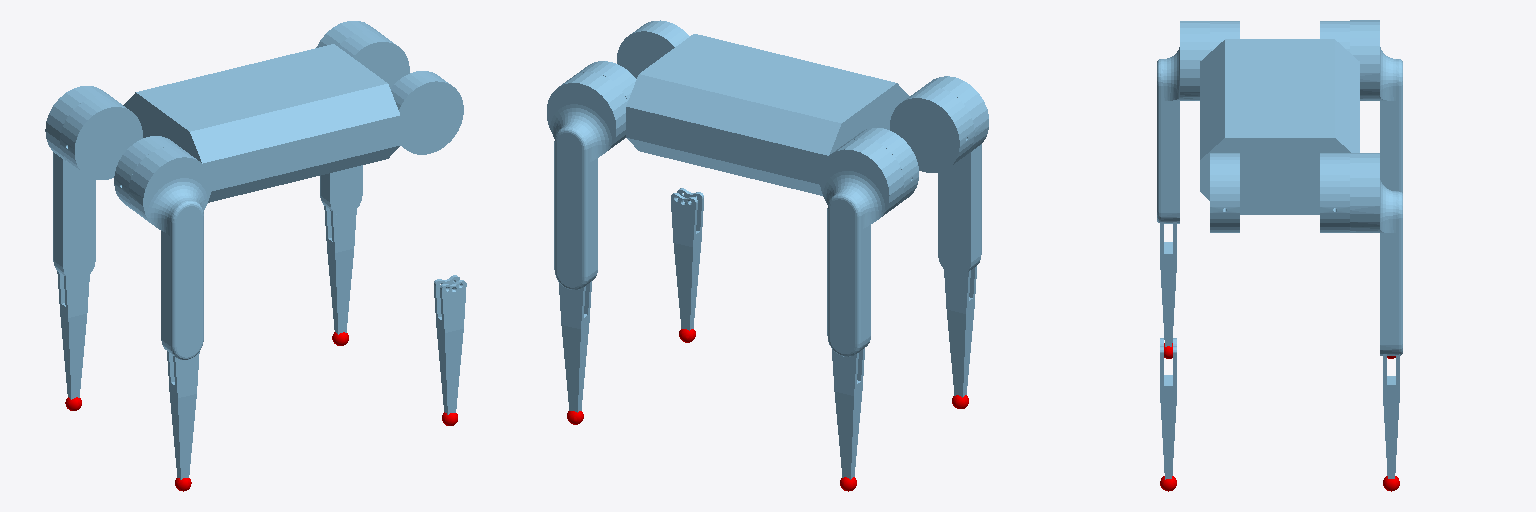
robot.urdf — astro_description:
<?xml version="1.0" encoding="utf-8"?>
<!-- This URDF was automatically created by SolidWorks to URDF Exporter! Originally created by [author] ([email redacted]) 
     Commit Version: 1.5.1-0-g916b5db  Build Version: 1.5.7152.31018
     For more information, please see http://wiki.ros.org/sw_urdf_exporter -->
<robot
  name="astro_description">
  <link
    name="base_link">
    <inertial>
      <origin
        xyz="8.31153464457157E-18 6.50618032034739E-18 5.0603624713813E-18"
        rpy="0 0 0" />
      <mass
        value="4.68680310101314" />
      <inertia
        ixx="0.0154717864738765"
        ixy="-1.44964753828898E-18"
        ixz="1.09665913846752E-18"
        iyy="0.0330737703955579"
        iyz="8.32585455221295E-20"
        izz="0.0414712634973384" />
    </inertial>
    <visual>
      <origin
        xyz="0 0 0"
        rpy="0 0 0" />
      <geometry>
        <mesh
          filename="package://astro_description/meshes/base_link.STL" />
      </geometry>
      <material
        name="">
        <color
          rgba="0.615686274509804 0.811764705882353 0.929411764705882 1" />
      </material>
    </visual>
    <collision>
      <origin
        xyz="0 0 0"
        rpy="0 0 0" />
      <geometry>
        <mesh
          filename="package://astro_description/meshes/base_link.STL" />
      </geometry>
    </collision>
  </link>
  <link
    name="hip_0">
    <inertial>
      <origin
        xyz="0 -1.38777878078145E-17 1.25816239120847E-20"
        rpy="0 0 0" />
      <mass
        value="0.246223359229195" />
      <inertia
        ixx="0.000165256724841001"
        ixy="-9.05104722009984E-15"
        ixz="-1.66129314216246E-14"
        iyy="0.000278470026411962"
        iyz="-1.73436802029533E-14"
        izz="0.000163858703021357" />
    </inertial>
    <visual>
      <origin
        xyz="0 0 0"
        rpy="0 0 0" />
      <geometry>
        <mesh
          filename="package://astro_description/meshes/hip_0.STL" />
      </geometry>
      <material
        name="">
        <color
          rgba="0.615686274509804 0.811764705882353 0.929411764705882 1" />
      </material>
    </visual>
    <collision>
      <origin
        xyz="0 0 0"
        rpy="0 0 0" />
      <geometry>
        <mesh
          filename="package://astro_description/meshes/hip_0.STL" />
      </geometry>
    </collision>
  </link>
  <joint
    name="hip_0"
    type="revolute">
    <origin
      xyz="0.185 0.065 0"
      rpy="0 0 0" />
    <parent
      link="base_link" />
    <child
      link="hip_0" />
    <axis
      xyz="-1 0 0" />
    <limit
      lower="-3.14"
      upper="3.14"
      effort="10"
      velocity="10" />
  </joint>
  <link
    name="shoulder_0">
    <inertial>
      <origin
        xyz="4.06795680474303E-10 0.0158652706913515 -0.0518927213529733"
        rpy="0 0 0" />
      <mass
        value="0.508100774960777" />
      <inertia
        ixx="0.00253510428613682"
        ixy="-1.80683476493991E-11"
        ixz="-2.00076175747246E-11"
        iyy="0.00255511245596087"
        iyz="0.000407766188388369"
        izz="0.000348890325766077" />
    </inertial>
    <visual>
      <origin
        xyz="0 0 0"
        rpy="0 0 0" />
      <geometry>
        <mesh
          filename="package://astro_description/meshes/shoulder_0.STL" />
      </geometry>
      <material
        name="">
        <color
          rgba="0.615686274509804 0.811764705882353 0.929411764705882 1" />
      </material>
    </visual>
    <collision>
      <origin
        xyz="0 0 0"
        rpy="0 0 0" />
      <geometry>
        <mesh
          filename="package://astro_description/meshes/shoulder_0.STL" />
      </geometry>
    </collision>
  </link>
  <joint
    name="shoulder_0"
    type="revolute">
    <origin
      xyz="0 0.0349999999353767 0"
      rpy="0 0 0" />
    <parent
      link="hip_0" />
    <child
      link="shoulder_0" />
    <axis
      xyz="0 1 0" />
    <limit
      lower="-3.14"
      upper="3.14"
      effort="10"
      velocity="10" />
  </joint>
  <link
    name="knee_0">
    <inertial>
      <origin
        xyz="2.3577252546203E-05 -2.77555756156289E-17 -0.0854767786481249"
        rpy="0 0 0" />
      <mass
        value="0.0550655915530228" />
      <inertia
        ixx="0.000108166100210968"
        ixy="9.08465366075516E-22"
        ixz="-3.77066822641529E-08"
        iyy="0.000109318668697255"
        iyz="1.43882130258396E-20"
        izz="4.74934642586929E-06" />
    </inertial>
    <visual>
      <origin
        xyz="0 0 0"
        rpy="0 0 0" />
      <geometry>
        <mesh
          filename="package://astro_description/meshes/knee_0.STL" />
      </geometry>
      <material
        name="">
        <color
          rgba="0.615686274509804 0.811764705882353 0.929411764705882 1" />
      </material>
    </visual>
    <collision>
      <origin
        xyz="0 0 0"
        rpy="0 0 0" />
      <geometry>
        <mesh
          filename="package://astro_description/meshes/knee_0.STL" />
      </geometry>
    </collision>
  </link>
  <joint
    name="knee_0"
    type="revolute">
    <origin
      xyz="0 0.0314999999999999 -0.1875"
      rpy="0 0 0" />
    <parent
      link="shoulder_0" />
    <child
      link="knee_0" />
    <axis
      xyz="0 -1 0" />
    <limit
      lower="-3.14"
      upper="3.14"
      effort="10"
      velocity="10" />
  </joint>
  <link
    name="toe_0">
    <inertial>
      <origin
        xyz="2.95606317202157E-11 9.95770133016549E-12 -0.00105178196616629"
        rpy="0 0 0" />
      <mass
        value="0.00341340894922415" />
      <inertia
        ixx="1.37512731322582E-07"
        ixy="3.15030137833387E-16"
        ixz="-8.62139511434755E-16"
        iyy="1.34732164237532E-07"
        iyz="-2.80019540660074E-16"
        izz="1.56709984508881E-07" />
    </inertial>
    <visual>
      <origin
        xyz="0 0 0"
        rpy="0 0 0" />
      <geometry>
        <mesh
          filename="package://astro_description/meshes/toe_0.STL" />
      </geometry>
      <material
        name="">
        <color
          rgba="1 0 0 1" />
      </material>
    </visual>
    <collision>
      <origin
        xyz="0 0 0"
        rpy="0 0 0" />
      <geometry>
        <mesh
          filename="package://astro_description/meshes/toe_0.STL" />
      </geometry>
    </collision>
  </link>
  <joint
    name="toe_0"
    type="fixed">
    <origin
      xyz="0 0 -0.19"
      rpy="0 0 0" />
    <parent
      link="knee_0" />
    <child
      link="toe_0" />
    <axis
      xyz="0 0 0" />
    <limit
      lower="-3.14"
      upper="3.14"
      effort="0"
      velocity="0" />
  </joint>
  <link
    name="hip_1">
    <inertial>
      <origin
        xyz="2.77555756156289E-17 1.38777878078145E-17 3.30036792602533E-20"
        rpy="0 0 0" />
      <mass
        value="0.246223359229195" />
      <inertia
        ixx="0.000165256724841001"
        ixy="9.05105986575477E-15"
        ixz="1.66129315864524E-14"
        iyy="0.000278470026411962"
        iyz="-1.73437001365424E-14"
        izz="0.000163858703021357" />
    </inertial>
    <visual>
      <origin
        xyz="0 0 0"
        rpy="0 0 0" />
      <geometry>
        <mesh
          filename="package://astro_description/meshes/hip_1.STL" />
      </geometry>
      <material
        name="">
        <color
          rgba="0.615686274509804 0.811764705882353 0.929411764705882 1" />
      </material>
    </visual>
    <collision>
      <origin
        xyz="0 0 0"
        rpy="0 0 0" />
      <geometry>
        <mesh
          filename="package://astro_description/meshes/hip_1.STL" />
      </geometry>
    </collision>
  </link>
  <joint
    name="hip_1"
    type="revolute">
    <origin
      xyz="0.185 -0.065 0"
      rpy="0 0 0" />
    <parent
      link="base_link" />
    <child
      link="hip_1" />
    <axis
      xyz="0 1 0" />
    <limit
      lower="-3.14"
      upper="3.14"
      effort="10"
      velocity="10" />
  </joint>
  <link
    name="shoulder_1">
    <inertial>
      <origin
        xyz="-4.06795652718728E-10 -0.0158652706913514 -0.0518927213529733"
        rpy="0 0 0" />
      <mass
        value="0.508100774960777" />
      <inertia
        ixx="0.00253510428613682"
        ixy="-1.80683477464773E-11"
        ixz="2.00076171968531E-11"
        iyy="0.00255511245596086"
        iyz="-0.000407766188388369"
        izz="0.000348890325766076" />
    </inertial>
    <visual>
      <origin
        xyz="0 0 0"
        rpy="0 0 0" />
      <geometry>
        <mesh
          filename="package://astro_description/meshes/shoulder_1.STL" />
      </geometry>
      <material
        name="">
        <color
          rgba="0.615686274509804 0.811764705882353 0.929411764705882 1" />
      </material>
    </visual>
    <collision>
      <origin
        xyz="0 0 0"
        rpy="0 0 0" />
      <geometry>
        <mesh
          filename="package://astro_description/meshes/shoulder_1.STL" />
      </geometry>
    </collision>
  </link>
  <joint
    name="shoulder_1"
    type="revolute">
    <origin
      xyz="0 -0.0349999999353766 0"
      rpy="0 0 0" />
    <parent
      link="hip_1" />
    <child
      link="shoulder_1" />
    <axis
      xyz="0 -1 0" />
    <limit
      lower="-3.14"
      upper="3.14"
      effort="10"
      velocity="10" />
  </joint>
  <link
    name="knee_1">
    <inertial>
      <origin
        xyz="-2.35772525461475E-05 -2.77555756156289E-17 -0.085476778648125"
        rpy="0 0 0" />
      <mass
        value="0.0550655915530228" />
      <inertia
        ixx="0.000108166100210968"
        ixy="1.95711519985102E-21"
        ixz="3.77066822642154E-08"
        iyy="0.000109318668697255"
        iyz="-1.11492990036179E-20"
        izz="4.74934642586929E-06" />
    </inertial>
    <visual>
      <origin
        xyz="0 0 0"
        rpy="0 0 0" />
      <geometry>
        <mesh
          filename="package://astro_description/meshes/knee_1.STL" />
      </geometry>
      <material
        name="">
        <color
          rgba="0.615686274509804 0.811764705882353 0.929411764705882 1" />
      </material>
    </visual>
    <collision>
      <origin
        xyz="0 0 0"
        rpy="0 0 0" />
      <geometry>
        <mesh
          filename="package://astro_description/meshes/knee_1.STL" />
      </geometry>
    </collision>
  </link>
  <joint
    name="knee_1"
    type="revolute">
    <origin
      xyz="0 -0.0315000000000001 -0.1875"
      rpy="0 0 0" />
    <parent
      link="shoulder_1" />
    <child
      link="knee_1" />
    <axis
      xyz="0 1 0" />
    <limit
      lower="-3.14"
      upper="3.14"
      effort="10"
      velocity="10" />
  </joint>
  <link
    name="toe_1">
    <inertial>
      <origin
        xyz="-2.95606039646401E-11 -9.95770133016549E-12 -0.00105178196616634"
        rpy="0 0 0" />
      <mass
        value="0.00341340894922415" />
      <inertia
        ixx="1.37512731322582E-07"
        ixy="3.15030139835466E-16"
        ixz="8.62139516591554E-16"
        iyy="1.34732164237532E-07"
        iyz="2.80019542233771E-16"
        izz="1.56709984508881E-07" />
    </inertial>
    <visual>
      <origin
        xyz="0 0 0"
        rpy="0 0 0" />
      <geometry>
        <mesh
          filename="package://astro_description/meshes/toe_1.STL" />
      </geometry>
      <material
        name="">
        <color
          rgba="1 0 0 1" />
      </material>
    </visual>
    <collision>
      <origin
        xyz="0 0 0"
        rpy="0 0 0" />
      <geometry>
        <mesh
          filename="package://astro_description/meshes/toe_1.STL" />
      </geometry>
    </collision>
  </link>
  <joint
    name="toe_1"
    type="fixed">
    <origin
      xyz="0 0 -0.19"
      rpy="0 0 0" />
    <parent
      link="knee_1" />
    <child
      link="toe_1" />
    <axis
      xyz="0 0 0" />
  </joint>
  <link
    name="hip_2">
    <inertial>
      <origin
        xyz="0 1.38777878078145E-17 5.79034700593245E-20"
        rpy="0 0 0" />
      <mass
        value="0.246223359229195" />
      <inertia
        ixx="0.000165256724841001"
        ixy="9.05104333115616E-15"
        ixz="1.66129315189461E-14"
        iyy="0.000278470026411962"
        iyz="-1.73436818613365E-14"
        izz="0.000163858703021357" />
    </inertial>
    <visual>
      <origin
        xyz="0 0 0"
        rpy="0 0 0" />
      <geometry>
        <mesh
          filename="package://astro_description/meshes/hip_2.STL" />
      </geometry>
      <material
        name="">
        <color
          rgba="0.615686274509804 0.811764705882353 0.929411764705882 1" />
      </material>
    </visual>
    <collision>
      <origin
        xyz="0 0 0"
        rpy="0 0 0" />
      <geometry>
        <mesh
          filename="package://astro_description/meshes/hip_2.STL" />
      </geometry>
    </collision>
  </link>
  <joint
    name="hip_2"
    type="revolute">
    <origin
      xyz="-0.185 -0.065 0"
      rpy="0 0 0" />
    <parent
      link="base_link" />
    <child
      link="hip_2" />
    <axis
      xyz="1 0 0" />
    <limit
      lower="-3.14"
      upper="3.14"
      effort="10"
      velocity="0" />
  </joint>
  <link
    name="shoulder_2">
    <inertial>
      <origin
        xyz="-4.06795680474303E-10 -0.0158652706913515 -0.0518927213529733"
        rpy="0 0 0" />
      <mass
        value="0.508100774960777" />
      <inertia
        ixx="0.00253510428613682"
        ixy="-1.80683477480077E-11"
        ixz="2.00076171935163E-11"
        iyy="0.00255511245596086"
        iyz="-0.000407766188388369"
        izz="0.000348890325766076" />
    </inertial>
    <visual>
      <origin
        xyz="0 0 0"
        rpy="0 0 0" />
      <geometry>
        <mesh
          filename="package://astro_description/meshes/shoulder_2.STL" />
      </geometry>
      <material
        name="">
        <color
          rgba="0.615686274509804 0.811764705882353 0.929411764705882 1" />
      </material>
    </visual>
    <collision>
      <origin
        xyz="0 0 0"
        rpy="0 0 0" />
      <geometry>
        <mesh
          filename="package://astro_description/meshes/shoulder_2.STL" />
      </geometry>
    </collision>
  </link>
  <joint
    name="shoulder_2"
    type="revolute">
    <origin
      xyz="0 -0.0349999999353766 0"
      rpy="0 0 0" />
    <parent
      link="hip_2" />
    <child
      link="shoulder_2" />
    <axis
      xyz="0 1 0" />
    <limit
      lower="-3.14"
      upper="3.14"
      effort="10"
      velocity="10" />
  </joint>
  <link
    name="knee_2">
    <inertial>
      <origin
        xyz="-2.3577252546203E-05 -2.77555756156289E-17 -0.085476778648125"
        rpy="0 0 0" />
      <mass
        value="0.0550655915530229" />
      <inertia
        ixx="0.000108166100210968"
        ixy="1.44041189360952E-22"
        ixz="3.77066822641946E-08"
        iyy="0.000109318668697255"
        iyz="9.00219991143379E-21"
        izz="4.7493464258693E-06" />
    </inertial>
    <visual>
      <origin
        xyz="0 0 0"
        rpy="0 0 0" />
      <geometry>
        <mesh
          filename="package://astro_description/meshes/knee_2.STL" />
      </geometry>
      <material
        name="">
        <color
          rgba="0.615686274509804 0.811764705882353 0.929411764705882 1" />
      </material>
    </visual>
    <collision>
      <origin
        xyz="0 0 0"
        rpy="0 0 0" />
      <geometry>
        <mesh
          filename="package://astro_description/meshes/knee_2.STL" />
      </geometry>
    </collision>
  </link>
  <joint
    name="knee_2"
    type="revolute">
    <origin
      xyz="0 -0.0315 -0.1875"
      rpy="0 0 0" />
    <parent
      link="shoulder_2" />
    <child
      link="knee_2" />
    <axis
      xyz="0 1 0" />
    <limit
      lower="-3.14"
      upper="3.14"
      effort="10"
      velocity="10" />
  </joint>
  <link
    name="toe_2">
    <inertial>
      <origin
        xyz="-2.95607982536694E-11 -0.263000000009958 -0.00105178196616645"
        rpy="0 0 0" />
      <mass
        value="0.00341340894922415" />
      <inertia
        ixx="1.37512731322582E-07"
        ixy="3.15030147553305E-16"
        ixz="8.62139524687812E-16"
        iyy="1.34732164237532E-07"
        iyz="2.80019554816043E-16"
        izz="1.56709984508881E-07" />
    </inertial>
    <visual>
      <origin
        xyz="0 0 0"
        rpy="0 0 0" />
      <geometry>
        <mesh
          filename="package://astro_description/meshes/toe_2.STL" />
      </geometry>
      <material
        name="">
        <color
          rgba="1 0 0 1" />
      </material>
    </visual>
    <collision>
      <origin
        xyz="0 0 0"
        rpy="0 0 0" />
      <geometry>
        <mesh
          filename="package://astro_description/meshes/toe_2.STL" />
      </geometry>
    </collision>
  </link>
  <joint
    name="toe_2"
    type="fixed">
    <origin
      xyz="0 0.263 -0.19"
      rpy="0 0 0" />
    <parent
      link="knee_2" />
    <child
      link="toe_2" />
    <axis
      xyz="0 0 0" />
  </joint>
  <link
    name="hip_3">
    <inertial>
      <origin
        xyz="0 -1.38777878078145E-17 -2.09908971156636E-19"
        rpy="0 0 0" />
      <mass
        value="0.246223359229195" />
      <inertia
        ixx="0.000165256724841001"
        ixy="-9.05106570189378E-15"
        ixz="-1.66129315081456E-14"
        iyy="0.000278470026411962"
        iyz="-1.73436830128447E-14"
        izz="0.000163858703021357" />
    </inertial>
    <visual>
      <origin
        xyz="0 0 0"
        rpy="0 0 0" />
      <geometry>
        <mesh
          filename="package://astro_description/meshes/hip_3.STL" />
      </geometry>
      <material
        name="">
        <color
          rgba="0.615686274509804 0.811764705882353 0.929411764705882 1" />
      </material>
    </visual>
    <collision>
      <origin
        xyz="0 0 0"
        rpy="0 0 0" />
      <geometry>
        <mesh
          filename="package://astro_description/meshes/hip_3.STL" />
      </geometry>
    </collision>
  </link>
  <joint
    name="hip_3"
    type="revolute">
    <origin
      xyz="-0.185 0.065 0"
      rpy="0 0 0" />
    <parent
      link="base_link" />
    <child
      link="hip_3" />
    <axis
      xyz="-1 0 0" />
    <limit
      lower="-3.14"
      upper="3.14"
      effort="10"
      velocity="10" />
  </joint>
  <link
    name="shoulder_3">
    <inertial>
      <origin
        xyz="4.06795680474303E-10 0.0158652706913514 -0.0518927213529732"
        rpy="0 0 0" />
      <mass
        value="0.508100774960776" />
      <inertia
        ixx="0.00253510428613682"
        ixy="-1.8068347626344E-11"
        ixz="-2.00076178633419E-11"
        iyy="0.00255511245596086"
        iyz="0.000407766188388369"
        izz="0.000348890325766076" />
    </inertial>
    <visual>
      <origin
        xyz="0 0 0"
        rpy="0 0 0" />
      <geometry>
        <mesh
          filename="package://astro_description/meshes/shoulder_3.STL" />
      </geometry>
      <material
        name="">
        <color
          rgba="0.615686274509804 0.811764705882353 0.929411764705882 1" />
      </material>
    </visual>
    <collision>
      <origin
        xyz="0 0 0"
        rpy="0 0 0" />
      <geometry>
        <mesh
          filename="package://astro_description/meshes/shoulder_3.STL" />
      </geometry>
    </collision>
  </link>
  <joint
    name="shoulder_3"
    type="revolute">
    <origin
      xyz="0 0.0349999999353766 0"
      rpy="0 0 0" />
    <parent
      link="hip_3" />
    <child
      link="shoulder_3" />
    <axis
      xyz="0 1 0" />
    <limit
      lower="-3.14"
      upper="3.14"
      effort="10"
      velocity="10" />
  </joint>
  <link
    name="knee_3">
    <inertial>
      <origin
        xyz="2.3577252546203E-05 0 -0.0854767786481249"
        rpy="0 0 0" />
      <mass
        value="0.0550655915530229" />
      <inertia
        ixx="0.000108166100210968"
        ixy="3.25909368174477E-22"
        ixz="-3.77066822641636E-08"
        iyy="0.000109318668697255"
        iyz="1.3066358238985E-20"
        izz="4.7493464258693E-06" />
    </inertial>
    <visual>
      <origin
        xyz="0 0 0"
        rpy="0 0 0" />
      <geometry>
        <mesh
          filename="package://astro_description/meshes/knee_3.STL" />
      </geometry>
      <material
        name="">
        <color
          rgba="0.615686274509804 0.811764705882353 0.929411764705882 1" />
      </material>
    </visual>
    <collision>
      <origin
        xyz="0 0 0"
        rpy="0 0 0" />
      <geometry>
        <mesh
          filename="package://astro_description/meshes/knee_3.STL" />
      </geometry>
    </collision>
  </link>
  <joint
    name="knee_3"
    type="revolute">
    <origin
      xyz="0 0.0315 -0.1875"
      rpy="0 0 0" />
    <parent
      link="shoulder_3" />
    <child
      link="knee_3" />
    <axis
      xyz="0 -1 0" />
    <limit
      lower="-3.14"
      upper="3.14"
      effort="10"
      velocity="10" />
  </joint>
  <link
    name="toe_3">
    <inertial>
      <origin
        xyz="2.95606317202157E-11 9.95770133016549E-12 -0.00105178196616634"
        rpy="0 0 0" />
      <mass
        value="0.00341340894922415" />
      <inertia
        ixx="1.37512731322582E-07"
        ixy="3.15030124015844E-16"
        ixz="-8.6213951994743E-16"
        iyy="1.34732164237532E-07"
        iyz="-2.80019546781306E-16"
        izz="1.56709984508881E-07" />
    </inertial>
    <visual>
      <origin
        xyz="0 0 0"
        rpy="0 0 0" />
      <geometry>
        <mesh
          filename="package://astro_description/meshes/toe_3.STL" />
      </geometry>
      <material
        name="">
        <color
          rgba="1 0 0 1" />
      </material>
    </visual>
    <collision>
      <origin
        xyz="0 0 0"
        rpy="0 0 0" />
      <geometry>
        <mesh
          filename="package://astro_description/meshes/toe_3.STL" />
      </geometry>
    </collision>
  </link>
  <joint
    name="toe_3"
    type="fixed">
    <origin
      xyz="0 0 -0.19"
      rpy="0 0 0" />
    <parent
      link="knee_3" />
    <child
      link="toe_3" />
    <axis
      xyz="0 0 0" />
  </joint>
</robot>

--- What the picture shows (computed from the rendered views, not written in the file) ---
3 views of the same robot in one strip: view 1: azimuth 30°, elevation 25°; view 2: azimuth 150°, elevation 25°; view 3: azimuth 270°, elevation 25° (orthographic).
Model astro_description with 17 links and 16 joints (12 revolute, 4 fixed), rooted at base_link, posed all joints at 0.
Visible links, largest first — view 1: base_link, shoulder_2, shoulder_3, hip_3, hip_1, knee_1, knee_2, knee_0, knee_3, shoulder_0, hip_0, hip_2; view 2: base_link, shoulder_3, shoulder_0, shoulder_2, hip_2, knee_1, knee_0, knee_3, knee_2, hip_1, hip_3, hip_0; view 3: base_link, shoulder_0, shoulder_2, shoulder_3, hip_0, hip_1, knee_1, knee_2, knee_0, hip_2, hip_3.
Boxes of the visible links, left/top/right/bottom form: base_link: left=123, top=44, right=400, bottom=202; shoulder_2: left=129, top=147, right=211, bottom=359; shoulder_3: left=45, top=86, right=116, bottom=280; hip_3: left=60, top=96, right=142, bottom=179; hip_1: left=391, top=71, right=463, bottom=154; knee_1: left=434, top=275, right=466, bottom=414; knee_2: left=167, top=351, right=199, bottom=479; knee_0: left=324, top=206, right=356, bottom=334; knee_3: left=57, top=271, right=89, bottom=399; shoulder_0: left=316, top=21, right=380, bottom=215; hip_0: left=339, top=31, right=409, bottom=88; hip_2: left=114, top=136, right=187, bottom=213; base_link: left=626, top=34, right=909, bottom=195; shoulder_3: left=820, top=139, right=903, bottom=356; shoulder_0: left=547, top=72, right=627, bottom=289; shoulder_2: left=921, top=76, right=988, bottom=275; hip_2: left=890, top=87, right=974, bottom=172; knee_1: left=671, top=188, right=703, bottom=330; knee_0: left=559, top=281, right=591, bottom=412; knee_3: left=832, top=348, right=864, bottom=479; knee_2: left=944, top=266, right=976, bottom=397; hip_1: left=617, top=20, right=689, bottom=78; hip_3: left=848, top=128, right=918, bottom=208; hip_0: left=574, top=61, right=636, bottom=142; base_link: left=1200, top=39, right=1359, bottom=214; shoulder_0: left=1350, top=153, right=1402, bottom=355; shoulder_2: left=1157, top=21, right=1209, bottom=223; shoulder_3: left=1350, top=20, right=1402, bottom=192; hip_0: left=1320, top=153, right=1349, bottom=232; hip_1: left=1210, top=153, right=1239, bottom=232; knee_1: left=1160, top=338, right=1176, bottom=479; knee_2: left=1160, top=222, right=1176, bottom=346; knee_0: left=1383, top=354, right=1399, bottom=478; hip_2: left=1210, top=21, right=1239, bottom=51; hip_3: left=1320, top=21, right=1349, bottom=51.
Size in the robot's own frame: 0.465 by 0.291 by 0.4375 metres.
16 mesh visuals loaded from 17 distinct referenced files (16 binary STL); not drawn: 1 (reference not matched to a file when rendering).